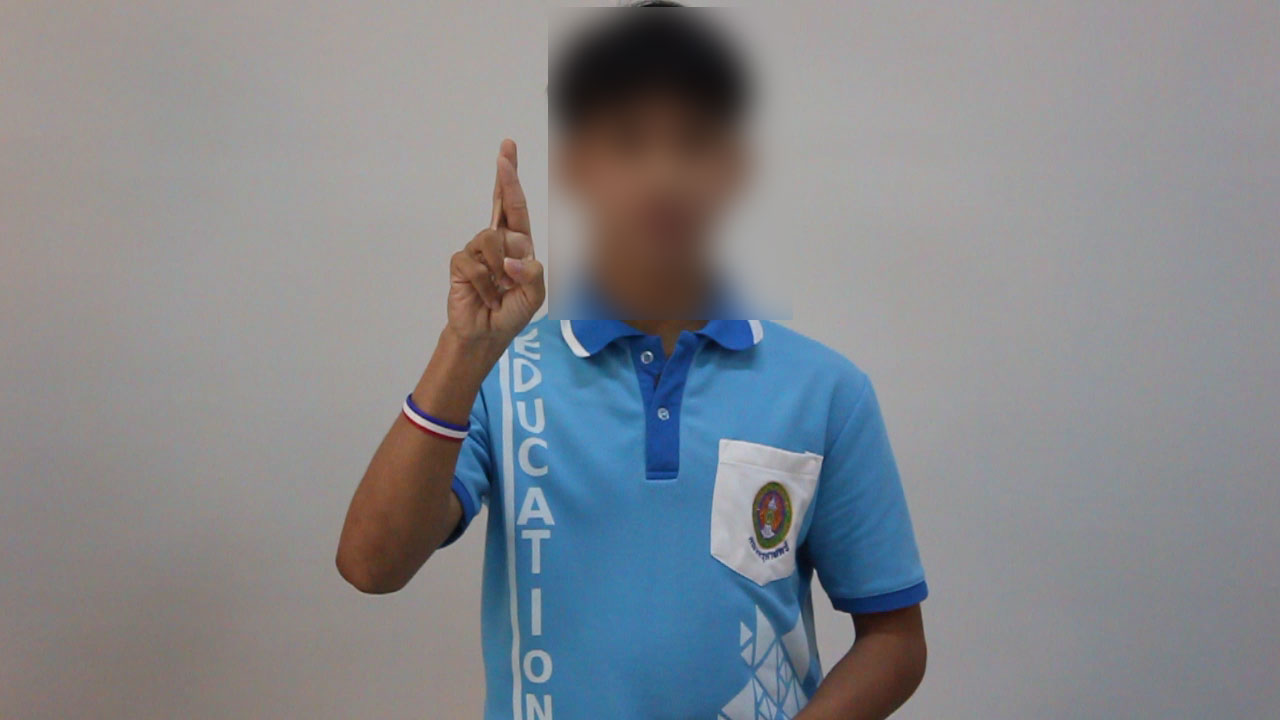rao: (412, 128, 553, 343)
